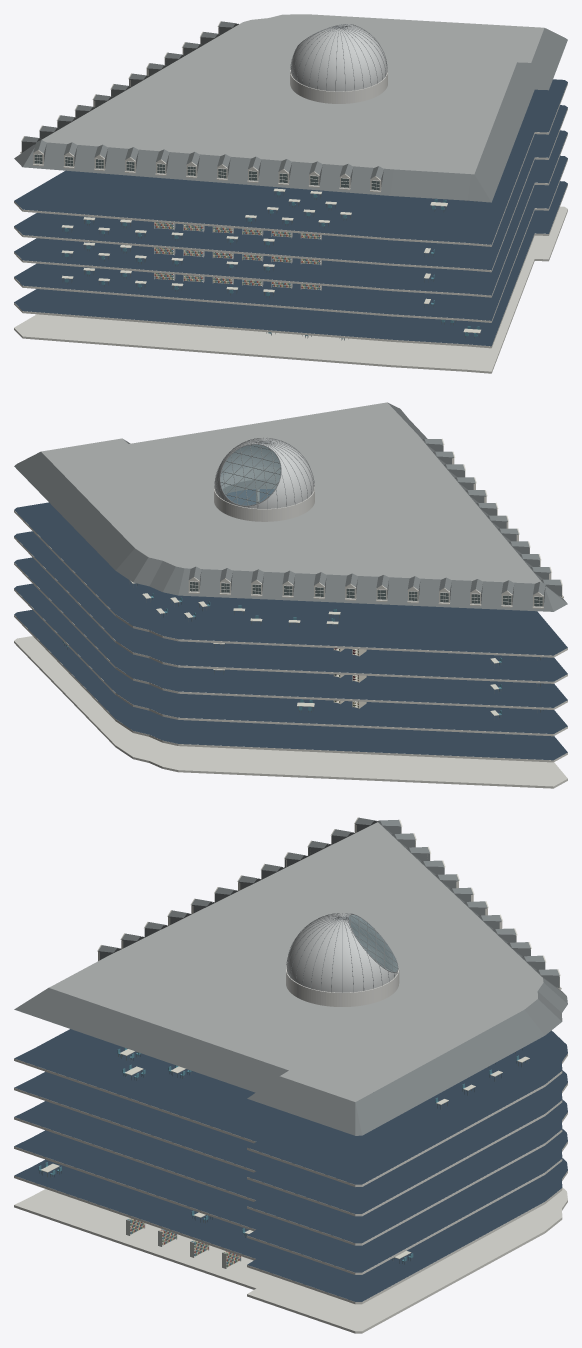
The model's file is lrb-interior-7b4f903114ad.glb.
The picture shows the model from 3 angles, top to bottom: view 1: azimuth 30°, elevation 25°; view 2: azimuth 150°, elevation 25°; view 3: azimuth 270°, elevation 25°; orthographic projection. The views are drawn at different scales.
Parts seen in each view (by area): view 1: LRB.001; view 2: LRB.001; view 3: LRB.001.
Part boxes in pixels (x1,y1,x2,y2): LRB.001: (14,14,567,373); LRB.001: (14,402,567,788); LRB.001: (14,817,567,1333).
Bounding box in the file's own units: 89.08 × 38.7 × 68.53.
